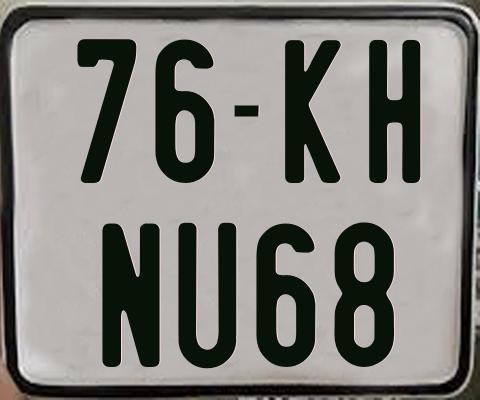6: (152, 37, 217, 186), (253, 220, 317, 366)
7: (77, 38, 141, 188)
8: (333, 221, 394, 370)
H: (368, 39, 422, 182)
K: (285, 37, 347, 184)
N: (102, 223, 166, 367)
U: (176, 223, 240, 372)
